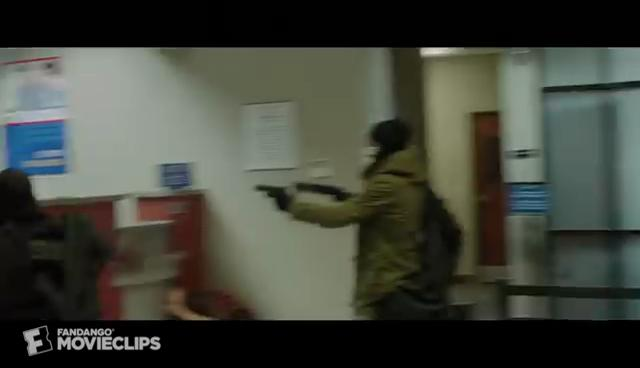criminal: (254, 118, 465, 320)
weapon: (294, 178, 350, 202), (254, 185, 292, 212)
